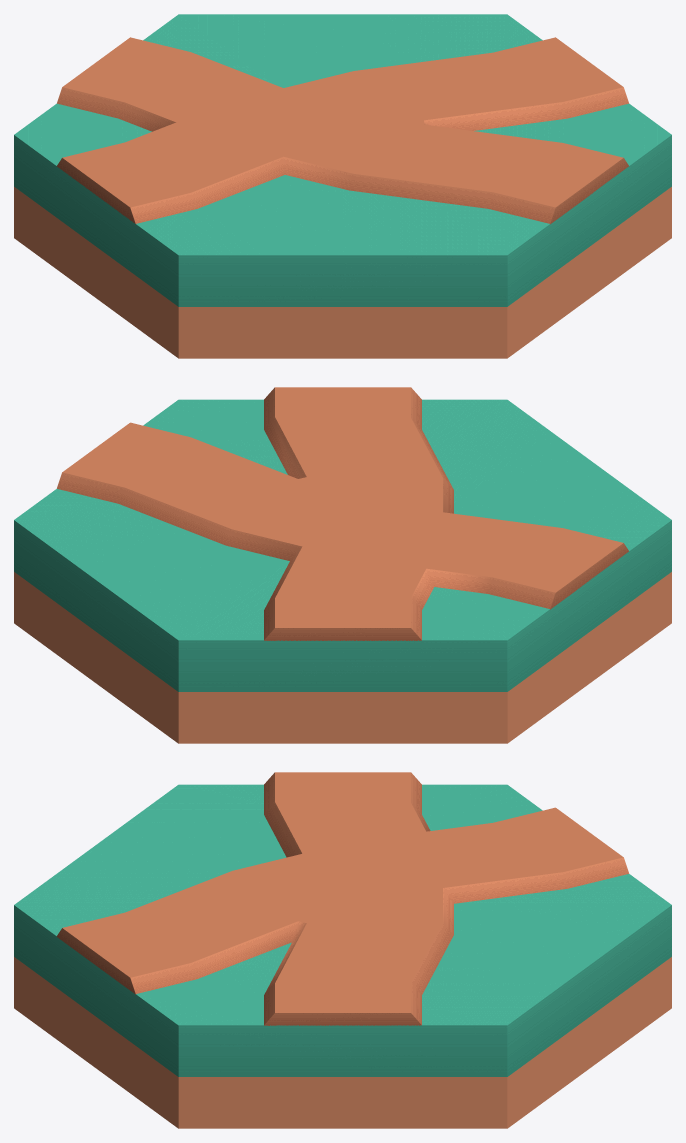
Rendered from grass-path-intersectionE.glb.
The picture shows the model from 3 angles, top to bottom: view 1: azimuth 30°, elevation 25°; view 2: azimuth 150°, elevation 25°; view 3: azimuth 270°, elevation 25°; orthographic projection.
Visible parts, largest first — view 1: grass, path-intersectionE; view 2: grass, path-intersectionE; view 3: grass, path-intersectionE.
Part boxes in pixels (x1,y1,x2,y2): grass: (14,14,671,358); path-intersectionE: (56,37,628,224); grass: (14,399,671,743); path-intersectionE: (57,387,628,640); grass: (14,784,671,1128); path-intersectionE: (56,772,628,1025).
Bounding box in the file's own units: 1 × 0.224 × 1.15.
Materials: 1 (1 with a texture image).
